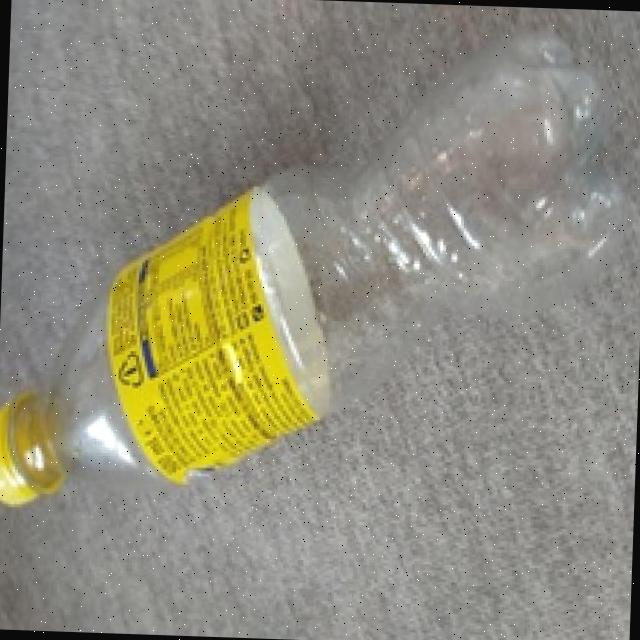bottle: (0, 13, 625, 599)
cap: (0, 385, 55, 514)
label: (97, 197, 344, 495)
